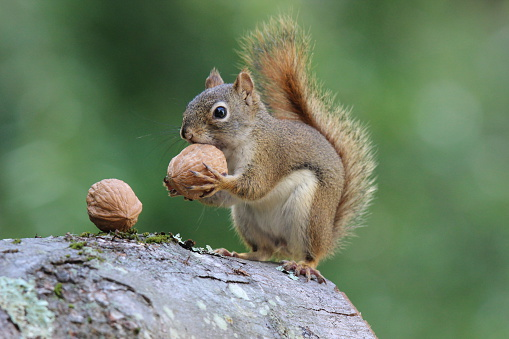squirrel: (179, 16, 375, 278)
